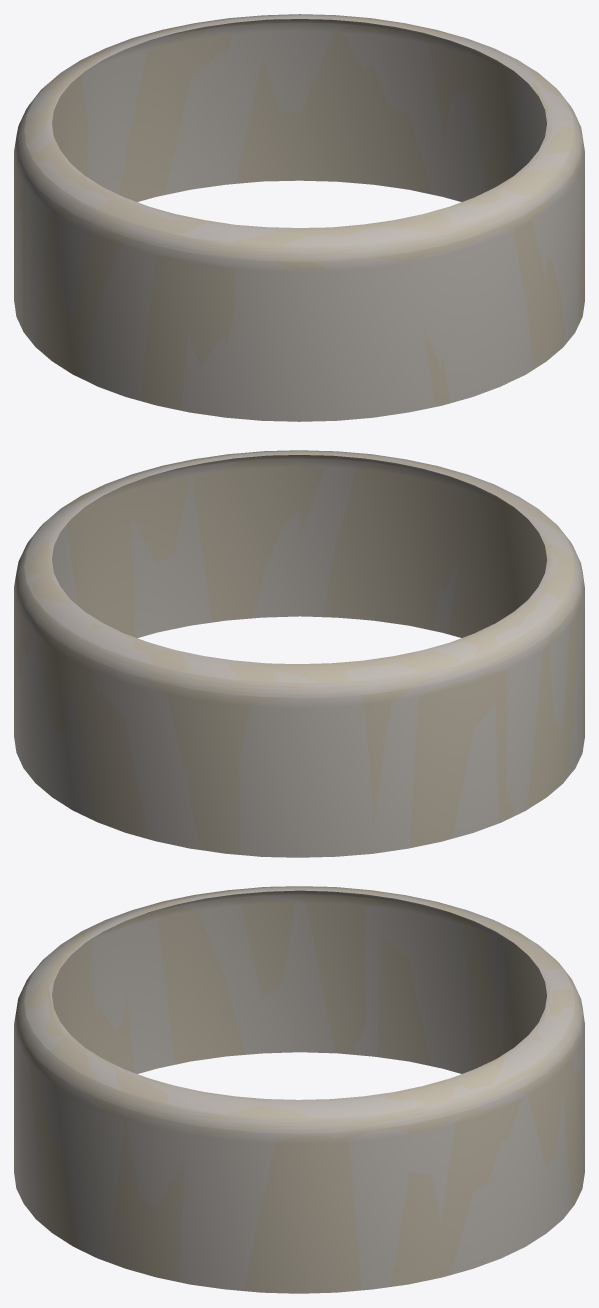
The model's file is original-13.obj.
3 renders of one model, top to bottom at view 1: azimuth 30°, elevation 25°; view 2: azimuth 150°, elevation 25°; view 3: azimuth 270°, elevation 25°, orthographic.
Parts seen in each view (by area): view 1: #ID314; view 2: #ID314; view 3: #ID314.
Part boxes in pixels (x1,y1,x2,y2): #ID314: [14, 14, 584, 421]; #ID314: [14, 450, 584, 857]; #ID314: [14, 886, 584, 1293].
Bounding box in the file's own units: 0.2999 × 0.1031 × 0.2998.
2 materials, 1 textured.
